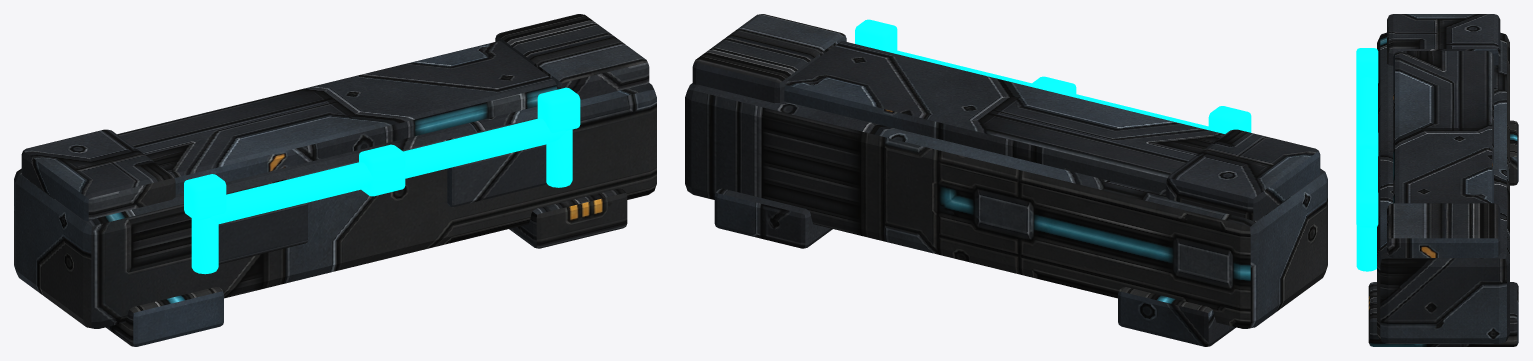
The model's file is CoolantManifoldModel.fbx.
3 views of the same model, side by side, from view 1: azimuth 30°, elevation 25°; view 2: azimuth 150°, elevation 25°; view 3: azimuth 270°, elevation 25° (orthographic). The views are drawn at different scales.
Visible parts, largest first — view 1: Coolant Manifold Body, Coolant Manifold Conduit; view 2: Coolant Manifold Body, Coolant Manifold Conduit; view 3: Coolant Manifold Body, Coolant Manifold Conduit.
Part boxes in pixels (bbox=[...]): Coolant Manifold Body: bbox=[14, 14, 656, 346]; Coolant Manifold Conduit: bbox=[184, 87, 580, 274]; Coolant Manifold Body: bbox=[685, 14, 1327, 346]; Coolant Manifold Conduit: bbox=[855, 19, 1251, 133]; Coolant Manifold Body: bbox=[1368, 14, 1518, 346]; Coolant Manifold Conduit: bbox=[1356, 48, 1378, 271].
Size of the model in its own units: 4.4 by 1.13 by 1.32.
Materials: 2 (1 with a texture image).
